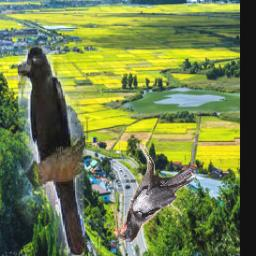Crow: (17, 45, 83, 256), (108, 144, 196, 246)
